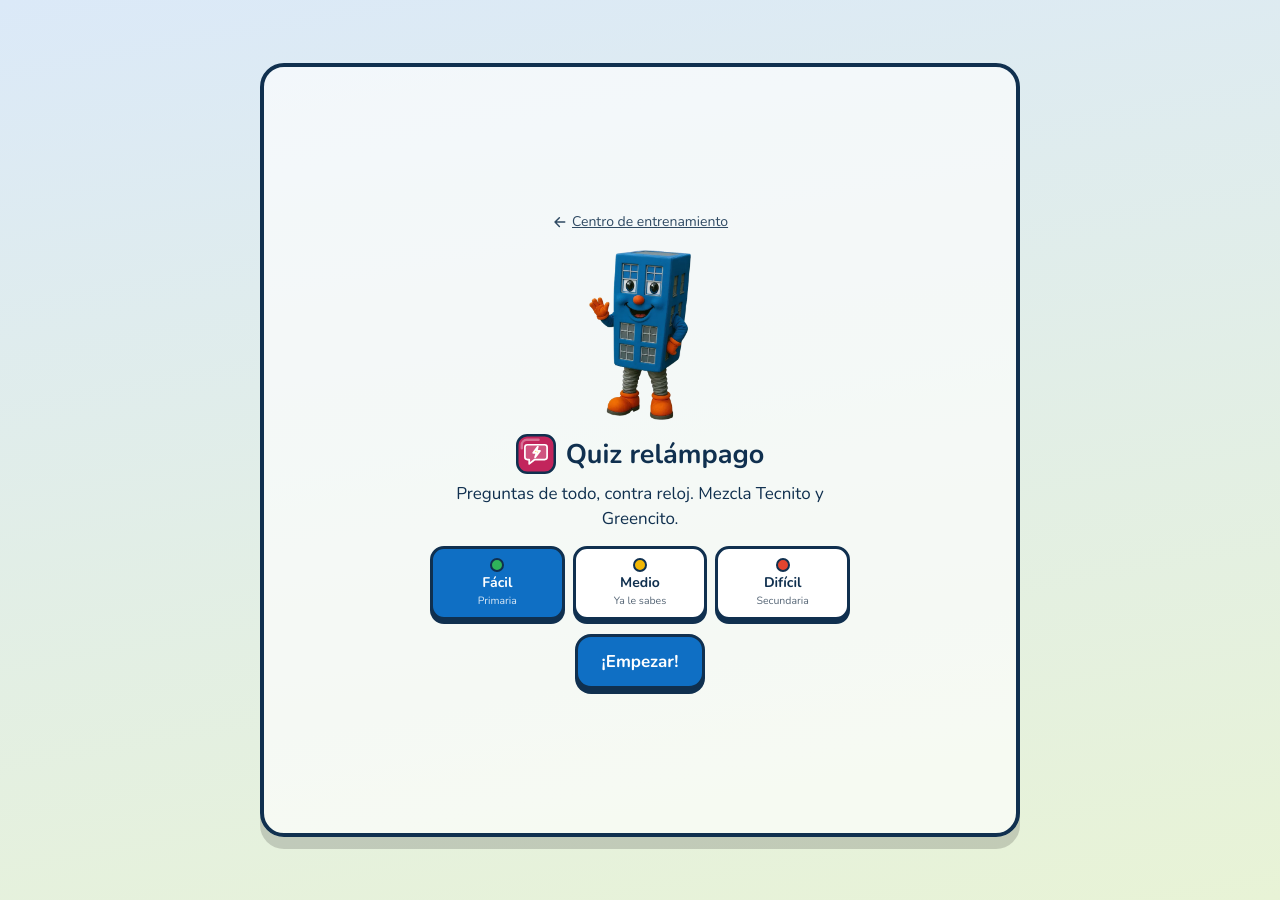
Test case: un solo reloj en todo el juego › los minijuegos del Centro y de las misiones usan el reloj nuevo, con su moneda y «pts»
The width and height of the screenshot is (1280, 900).
Click the button "¡Empezar!". click: (640,661)
box: [574,634,705,689]
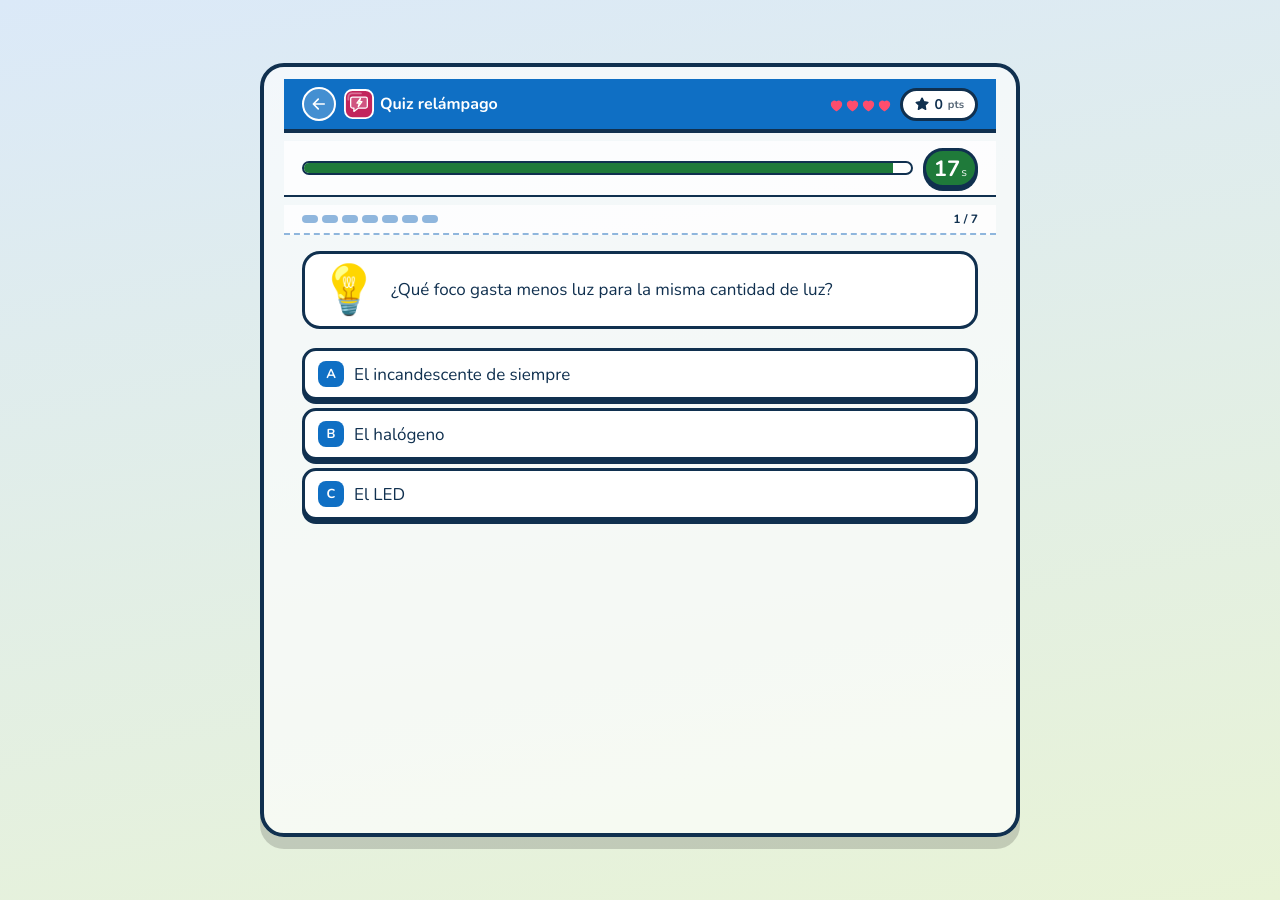
Expected: the icon with class "icono--estrella" is shown, [914,96,930,112]
Expected: the text "17" is shown, [934,151,960,187]
Expected: the element with class "jm__puntos" shows "pts", [948,96,964,112]
